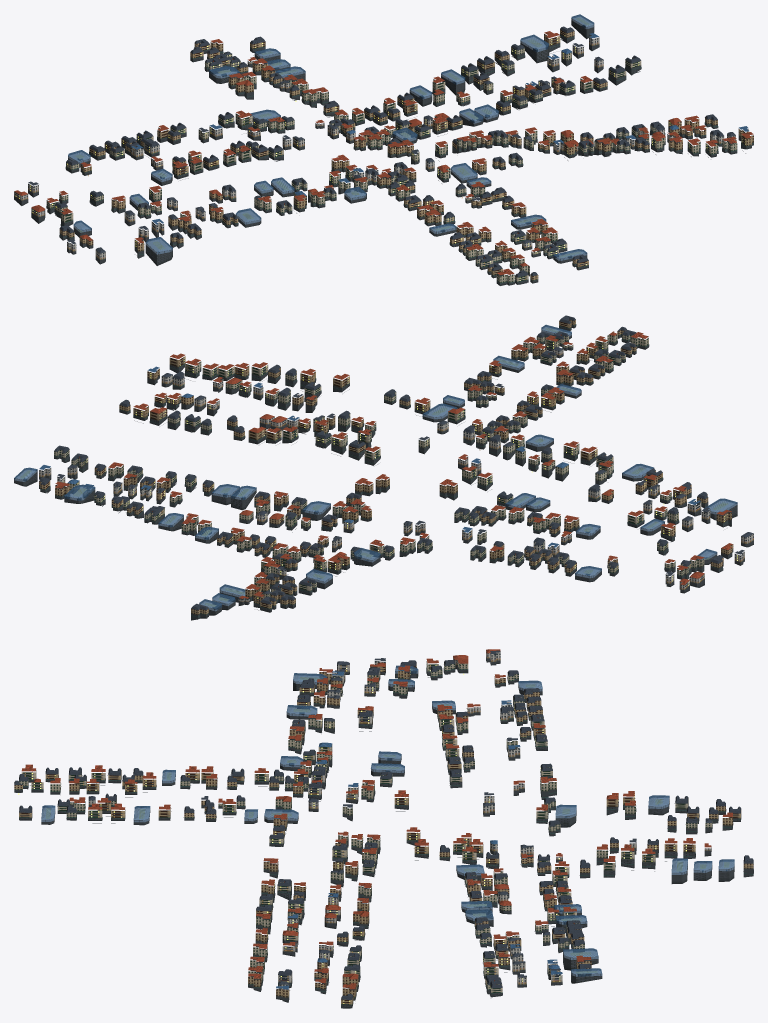
File: osm_buildings_T_W02_N01_Q4.glb
3 renders of one model, top to bottom at view 1: azimuth 30°, elevation 25°; view 2: azimuth 150°, elevation 25°; view 3: azimuth 270°, elevation 25°, orthographic. The views are drawn at different scales.
Visible parts, largest first — view 1: OSM_T_W02_N01_Q4_foundation, OSM_T_W02_N01_Q4_wall_french_ochre, OSM_T_W02_N01_Q4_wall_cream_stucco, OSM_T_W02_N01_Q4_roof_terracotta, OSM_T_W02_N01_Q4_roof_mansard_slate, OSM_T_W02_N01_Q4_greenhouse_blend, OSM_T_W02_N01_Q4_roof_mansard_deck, OSM_T_W02_N01_Q4_wall_warm_white, OSM_T_W02_N01_Q4_roof_mint_metal, OSM_T_W02_N01_Q4_trim_cornice, OSM_T_W02_N01_Q4_window_emissive_warm, OSM_T_W02_N01_Q4_balcony_railing (+2 smaller); view 2: OSM_T_W02_N01_Q4_foundation, OSM_T_W02_N01_Q4_wall_french_ochre, OSM_T_W02_N01_Q4_wall_cream_stucco, OSM_T_W02_N01_Q4_roof_terracotta, OSM_T_W02_N01_Q4_roof_mansard_slate, OSM_T_W02_N01_Q4_greenhouse_blend, OSM_T_W02_N01_Q4_roof_mansard_deck, OSM_T_W02_N01_Q4_wall_warm_white, OSM_T_W02_N01_Q4_roof_mint_metal, OSM_T_W02_N01_Q4_trim_cornice, OSM_T_W02_N01_Q4_balcony_railing, OSM_T_W02_N01_Q4_window_emissive_warm (+2 smaller); view 3: OSM_T_W02_N01_Q4_foundation, OSM_T_W02_N01_Q4_wall_cream_stucco, OSM_T_W02_N01_Q4_wall_french_ochre, OSM_T_W02_N01_Q4_roof_terracotta, OSM_T_W02_N01_Q4_roof_mansard_slate, OSM_T_W02_N01_Q4_greenhouse_blend, OSM_T_W02_N01_Q4_roof_mansard_deck, OSM_T_W02_N01_Q4_wall_warm_white, OSM_T_W02_N01_Q4_trim_cornice, OSM_T_W02_N01_Q4_balcony_railing, OSM_T_W02_N01_Q4_roof_mint_metal, OSM_T_W02_N01_Q4_window_emissive_warm (+2 smaller).
Part boxes in pixels (x1,y1,x2,y2): OSM_T_W02_N01_Q4_foundation: (14, 20, 753, 285); OSM_T_W02_N01_Q4_wall_french_ochre: (59, 29, 753, 280); OSM_T_W02_N01_Q4_wall_cream_stucco: (46, 47, 737, 282); OSM_T_W02_N01_Q4_roof_terracotta: (14, 31, 753, 275); OSM_T_W02_N01_Q4_roof_mansard_slate: (28, 27, 735, 277); OSM_T_W02_N01_Q4_greenhouse_blend: (68, 14, 594, 260); OSM_T_W02_N01_Q4_roof_mansard_deck: (57, 19, 722, 274); OSM_T_W02_N01_Q4_wall_warm_white: (14, 45, 735, 259); OSM_T_W02_N01_Q4_roof_mint_metal: (46, 35, 753, 283); OSM_T_W02_N01_Q4_trim_cornice: (15, 31, 753, 282); OSM_T_W02_N01_Q4_window_emissive_warm: (19, 18, 745, 278); OSM_T_W02_N01_Q4_balcony_railing: (14, 38, 744, 284); OSM_T_W02_N01_Q4_foundation: (14, 324, 753, 620); OSM_T_W02_N01_Q4_wall_french_ochre: (39, 319, 733, 614); OSM_T_W02_N01_Q4_wall_cream_stucco: (54, 332, 704, 597); OSM_T_W02_N01_Q4_roof_terracotta: (55, 331, 732, 598); OSM_T_W02_N01_Q4_roof_mansard_slate: (39, 317, 753, 610); OSM_T_W02_N01_Q4_greenhouse_blend: (14, 324, 737, 611); OSM_T_W02_N01_Q4_roof_mansard_deck: (14, 315, 727, 610); OSM_T_W02_N01_Q4_wall_warm_white: (57, 349, 753, 589); OSM_T_W02_N01_Q4_roof_mint_metal: (41, 324, 730, 617); OSM_T_W02_N01_Q4_trim_cornice: (39, 320, 753, 612); OSM_T_W02_N01_Q4_balcony_railing: (46, 337, 727, 618); OSM_T_W02_N01_Q4_window_emissive_warm: (20, 328, 737, 606); OSM_T_W02_N01_Q4_foundation: (14, 655, 753, 1008); OSM_T_W02_N01_Q4_wall_cream_stucco: (19, 659, 712, 992); OSM_T_W02_N01_Q4_wall_french_ochre: (14, 663, 753, 1004); OSM_T_W02_N01_Q4_roof_terracotta: (21, 649, 732, 989); OSM_T_W02_N01_Q4_roof_mansard_slate: (14, 650, 753, 999); OSM_T_W02_N01_Q4_greenhouse_blend: (41, 665, 734, 976); OSM_T_W02_N01_Q4_roof_mansard_deck: (15, 660, 752, 997); OSM_T_W02_N01_Q4_wall_warm_white: (88, 650, 636, 990); OSM_T_W02_N01_Q4_trim_cornice: (20, 653, 753, 1008); OSM_T_W02_N01_Q4_balcony_railing: (15, 666, 743, 1008); OSM_T_W02_N01_Q4_roof_mint_metal: (14, 669, 753, 1004); OSM_T_W02_N01_Q4_window_emissive_warm: (18, 665, 728, 1003).
Size of the model in its own units: 947 by 92.82 by 910.
16 materials, 16 textured.
